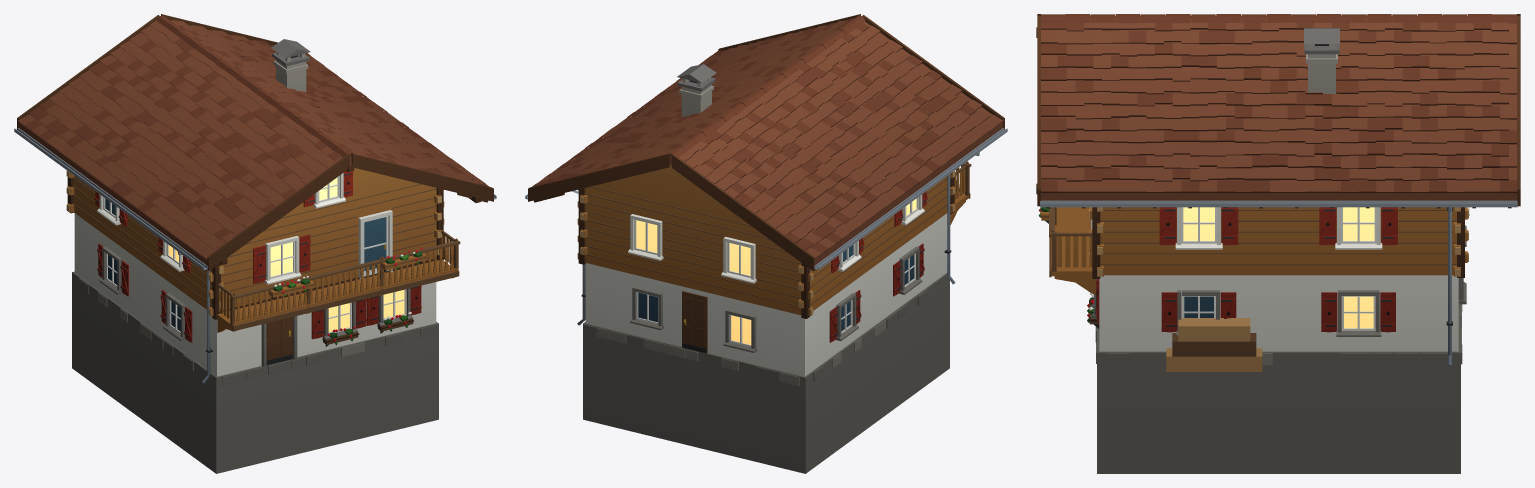
Rendered from Chalet_B.fbx.
3 renders of one model, left to right at view 1: azimuth 30°, elevation 25°; view 2: azimuth 150°, elevation 25°; view 3: azimuth 270°, elevation 25°, orthographic. The views are drawn at different scales.
Visible parts, largest first — view 1: Chalet_B_LOD0; view 2: Chalet_B_LOD0; view 3: Chalet_B_LOD0.
Boxes of the visible parts, x1,y1,x2,y2 form: Chalet_B_LOD0: (14, 14, 496, 473); Chalet_B_LOD0: (525, 14, 1007, 473); Chalet_B_LOD0: (1036, 14, 1520, 473).
Size of what is drawn, in the model's own units: 10.68 by 11.31 by 12.12.
Materials: 1 (1 with a texture image).
